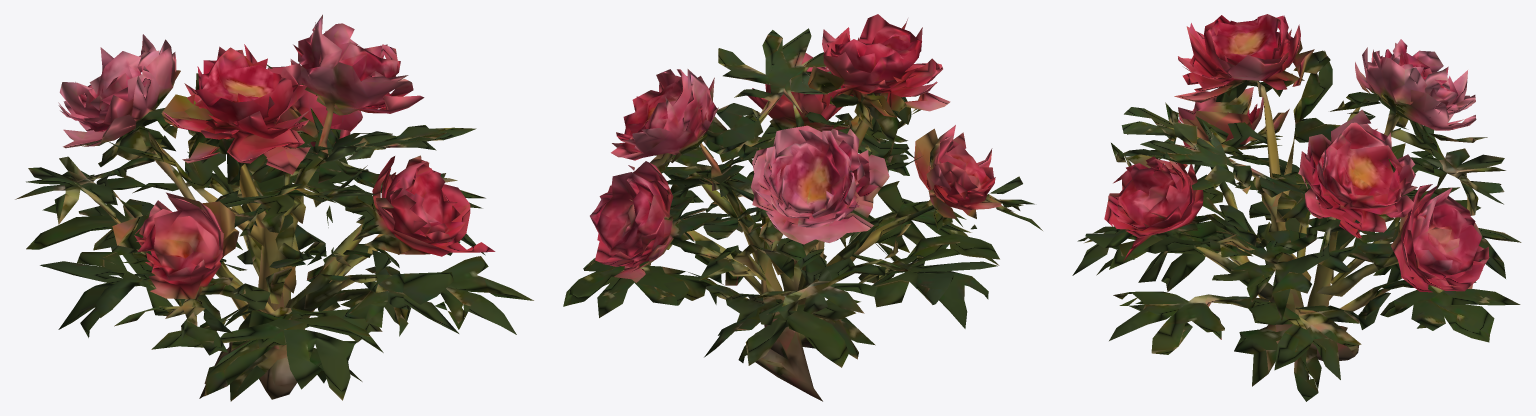
The model's file is huacong_mudan.glb.
3 views of the same model, side by side, from view 1: azimuth 30°, elevation 25°; view 2: azimuth 150°, elevation 25°; view 3: azimuth 270°, elevation 25° (orthographic). The views are drawn at different scales.
Parts seen in each view (by area): view 1: tripo_node_44cba90f-e708-4ec0-8969-f74cb927e289; view 2: tripo_node_44cba90f-e708-4ec0-8969-f74cb927e289; view 3: tripo_node_44cba90f-e708-4ec0-8969-f74cb927e289.
Boxes of the visible parts, x1,y1,x2,y2 form: tripo_node_44cba90f-e708-4ec0-8969-f74cb927e289: (15, 14, 533, 401); tripo_node_44cba90f-e708-4ec0-8969-f74cb927e289: (563, 14, 1042, 401); tripo_node_44cba90f-e708-4ec0-8969-f74cb927e289: (1072, 14, 1521, 401).
Bounding box in the file's own units: 1.16 × 1 × 1.2.
1 material, 1 textured.
